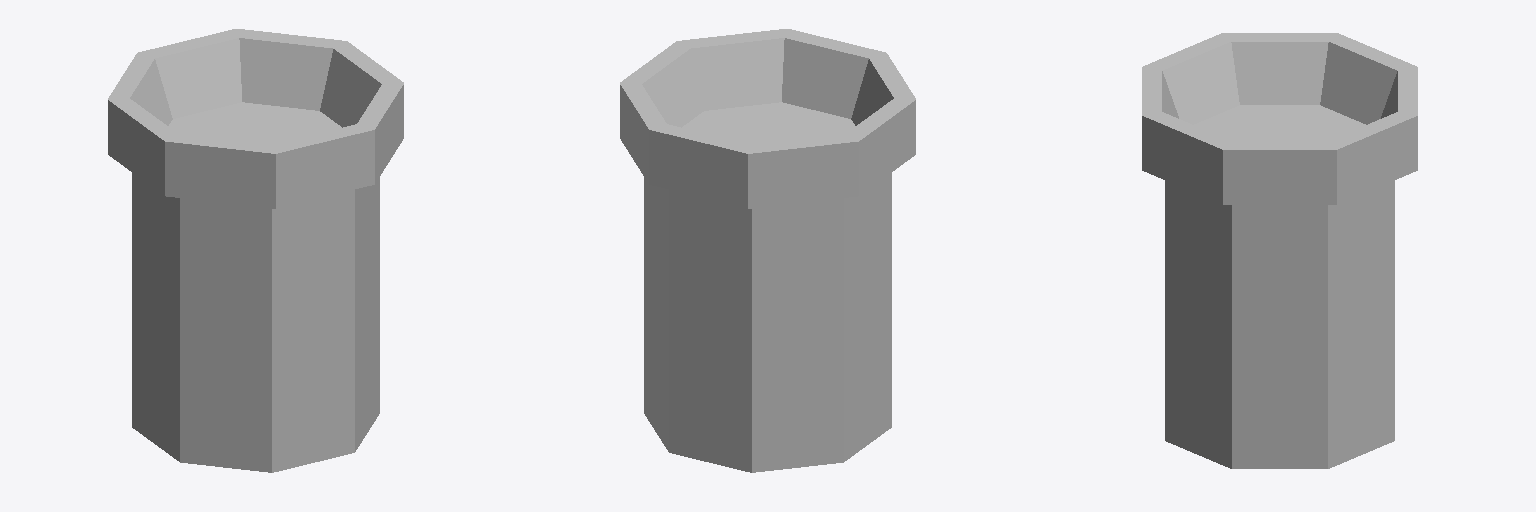
The model's file is pipeSingle.obj.
3 views of the same model, side by side, from view 1: azimuth 30°, elevation 25°; view 2: azimuth 150°, elevation 25°; view 3: azimuth 270°, elevation 25° (orthographic).
Parts seen in each view (by area): view 1: mesh01; view 2: mesh01; view 3: mesh01.
Boxes of the visible parts, <box> form: mesh01: <box>108,29,403,472</box>; mesh01: <box>620,29,915,472</box>; mesh01: <box>1142,33,1417,468</box>.
Size of the model in its own units: 0.9134 by 1.2 by 0.9134.